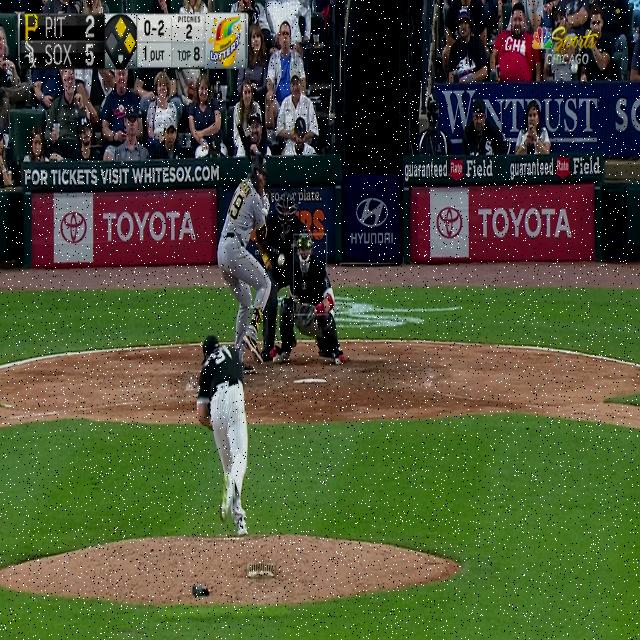baseball: (278, 252, 285, 268)
